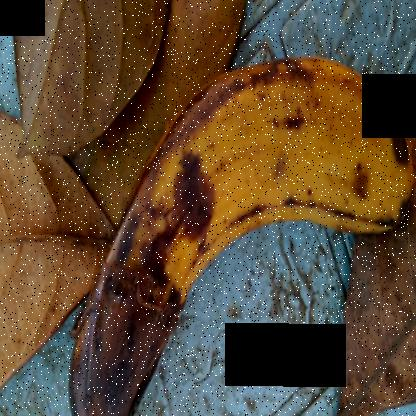rotten: (58, 47, 408, 415)
